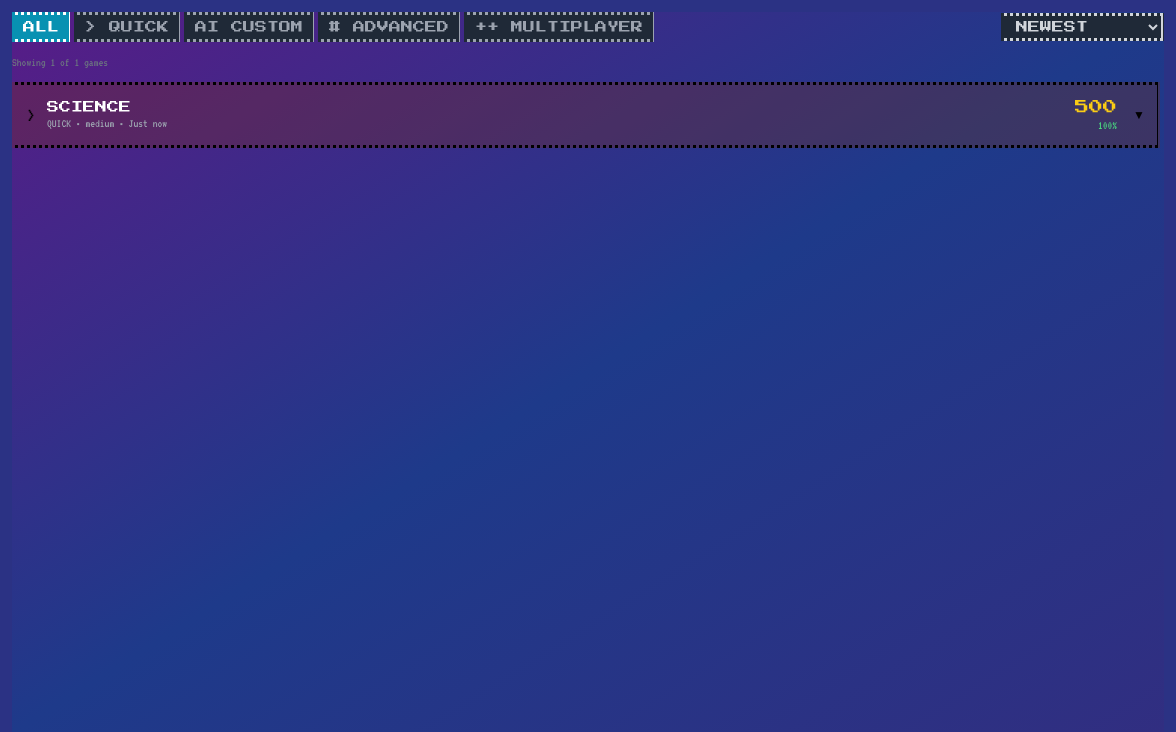
Test: GameHistoryList › with entries › shows PERFECT badge for 100%
What coordinates should you click on to do the following:
click the button with aria-label "game details"
I would click on:
 (89, 107)
Its box is x1=15 y1=85 x2=1157 y2=145.
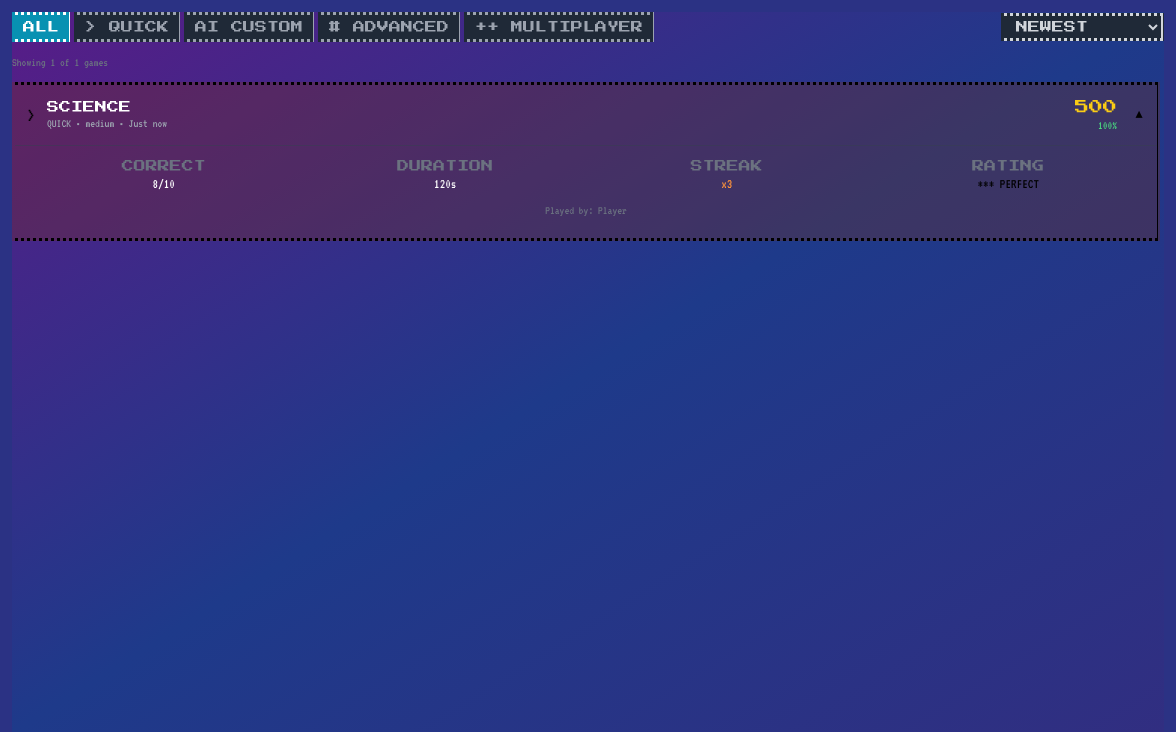
Check: the text "*** PERFECT" is shown, box x1=977 y1=177 x2=1039 y2=191
